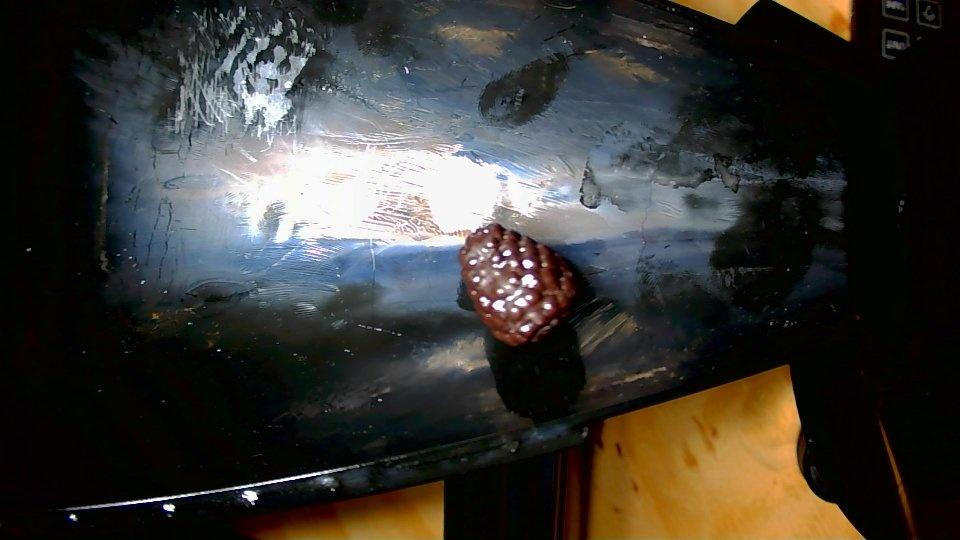berry: (460, 223, 577, 345)
